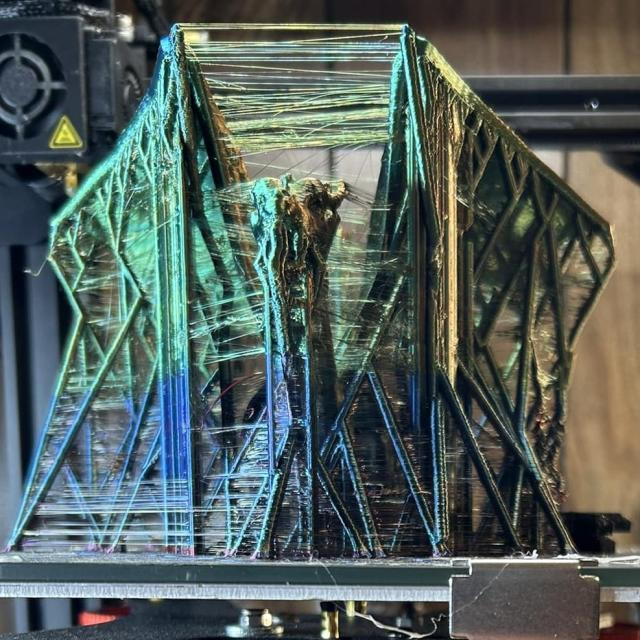Stringing: (178, 25, 411, 150), (324, 215, 402, 325), (38, 471, 182, 521), (176, 297, 276, 355)
